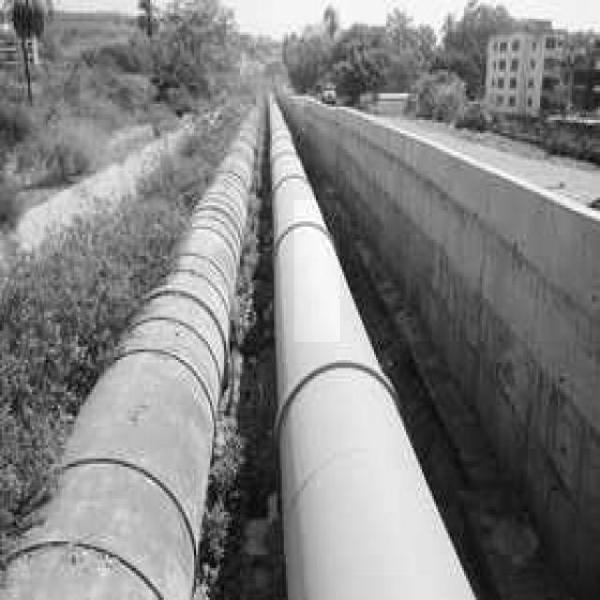no leak: (294, 200, 340, 342)
